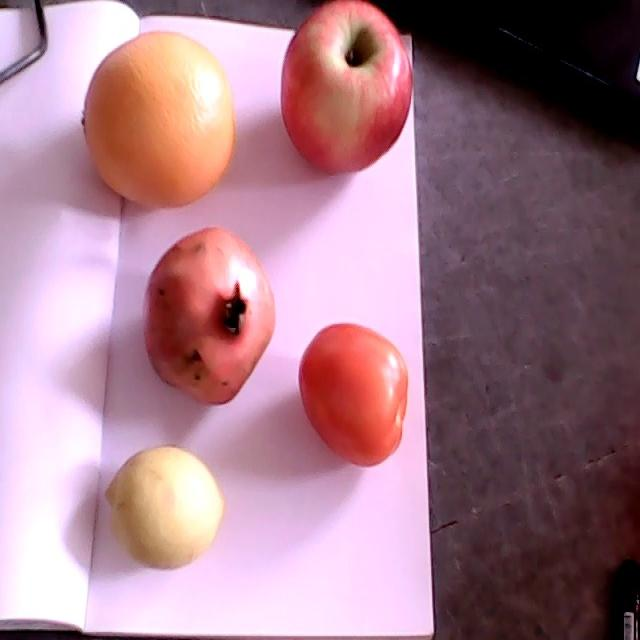apple: (281, 0, 412, 173)
lemon: (104, 445, 225, 571)
orange: (81, 31, 236, 207)
pomegranate: (144, 228, 275, 402)
tomato: (299, 323, 408, 466)
